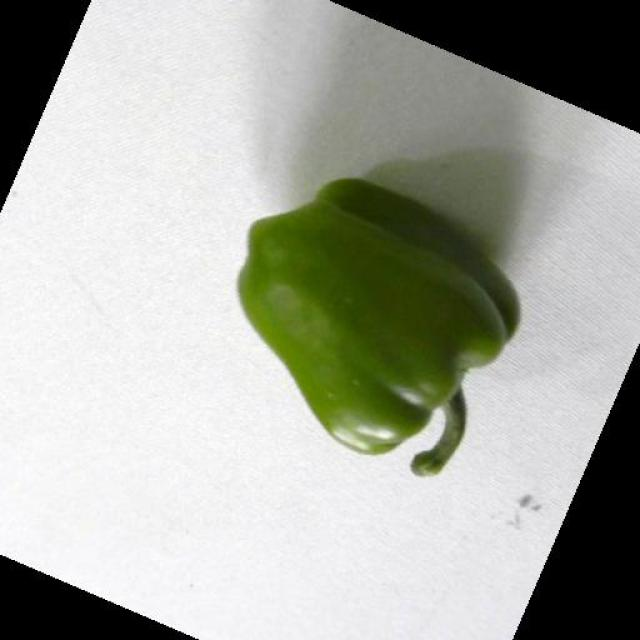Fresh_Capsicum: (222, 175, 516, 489)
